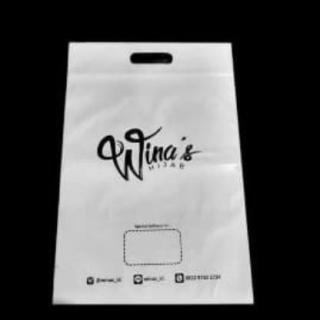objects: (48, 33, 258, 307)
